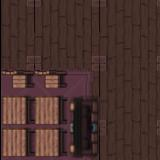Hide: (67, 95, 99, 160)
Obstacle: (0, 63, 34, 96), (0, 127, 34, 160), (34, 127, 67, 160), (34, 63, 66, 96), (34, 95, 67, 126), (0, 96, 34, 126)
